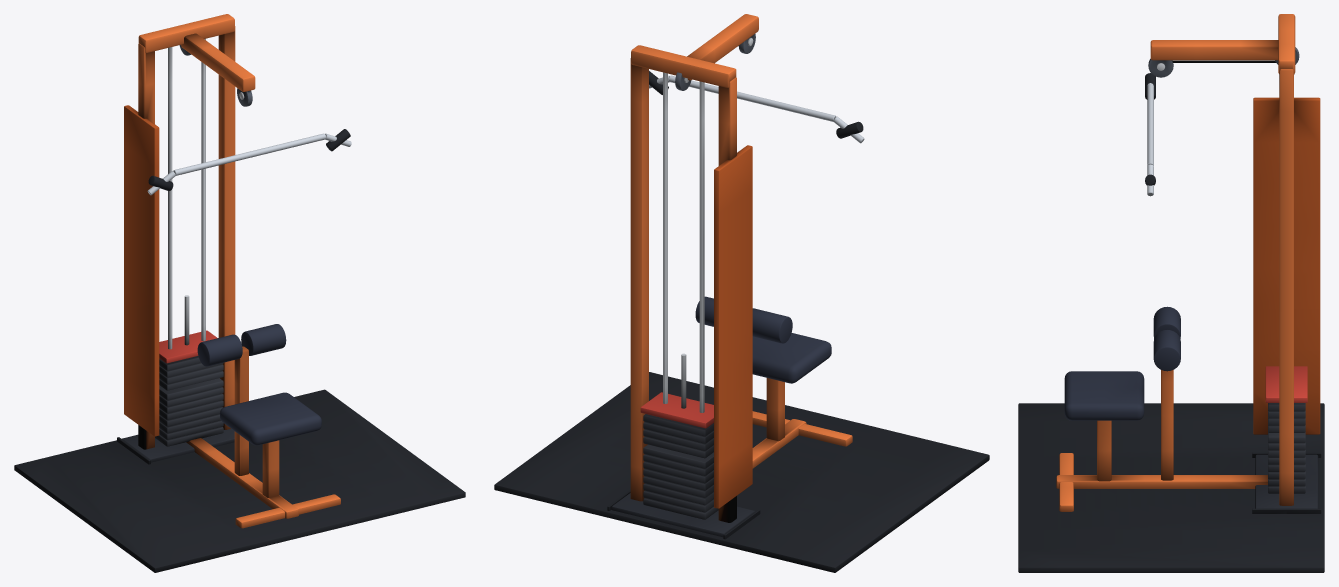
The model's file is m_latpull.glb.
The picture shows the model from 3 angles, left to right: view 1: azimuth 30°, elevation 25°; view 2: azimuth 150°, elevation 25°; view 3: azimuth 270°, elevation 25°; orthographic projection. The views are drawn at different scales.
Visible parts, largest first — view 1: static, o17, o42; view 2: static, o17, o42; view 3: static, o17, o42.
Part boxes in pixels (<box>): static: <box>14,14,465,572</box>; o17: <box>159,295,223,390</box>; o42: <box>147,129,351,195</box>; static: <box>494,14,989,572</box>; o17: <box>640,353,713,458</box>; o42: <box>649,71,864,143</box>; static: <box>1018,14,1324,572</box>; o17: <box>1265,366,1307,432</box>; o42: <box>1145,73,1155,196</box>.
Bounding box in the file's own units: 1.86 × 2.4 × 1.46.
